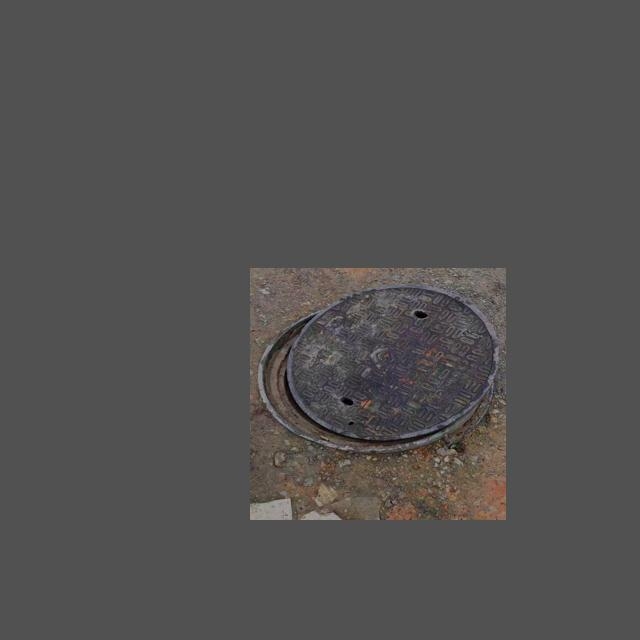uncovered: (256, 282, 499, 452)
